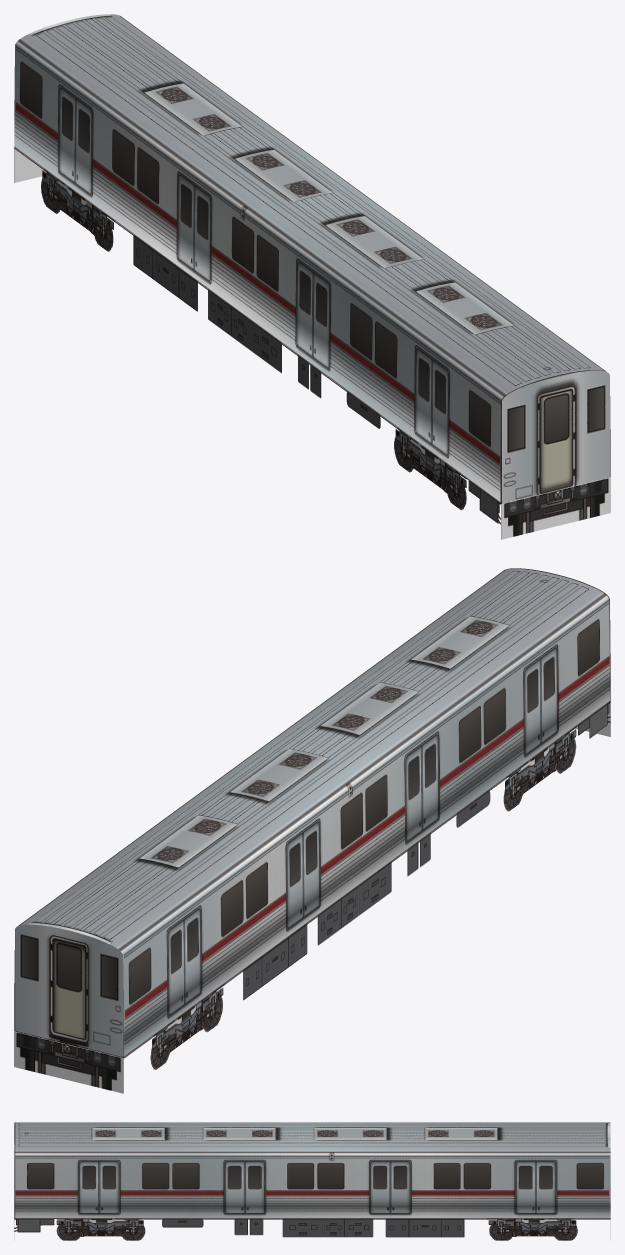
Rendered from car2.glb.
The picture shows the model from 3 angles, top to bottom: view 1: azimuth 30°, elevation 25°; view 2: azimuth 150°, elevation 25°; view 3: azimuth 270°, elevation 25°; orthographic projection. The views are drawn at different scales.
Visible parts, largest first — view 1: tobu-9000-car2; view 2: tobu-9000-car2; view 3: tobu-9000-car2.
Boxes of the visible parts, x1=… form: tobu-9000-car2: x1=14, y1=14, x2=610, y2=539; tobu-9000-car2: x1=14, y1=568, x2=610, y2=1093; tobu-9000-car2: x1=14, y1=1122, x2=610, y2=1240.
Size of the model in its own units: 2.77 by 3.62 by 21.34.
Materials: 8 (7 with a texture image).
